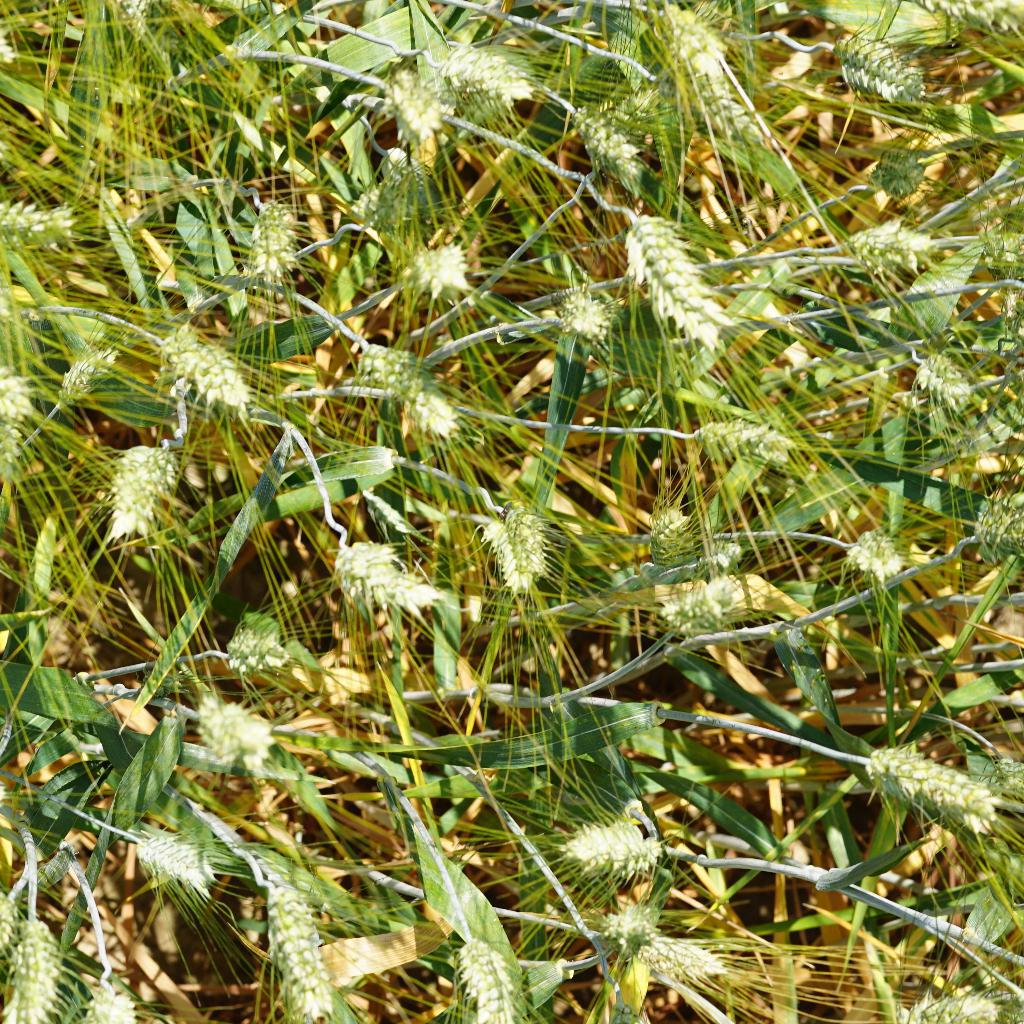0-0: (617, 202, 735, 352), (863, 728, 1002, 854), (661, 0, 769, 145), (256, 867, 343, 1019), (82, 425, 187, 541), (823, 24, 950, 118), (557, 94, 657, 193), (326, 530, 429, 623), (684, 402, 810, 478), (419, 26, 538, 105), (154, 324, 254, 413), (549, 803, 666, 878), (449, 927, 538, 1024), (0, 897, 64, 1024), (475, 478, 553, 582), (354, 135, 436, 228), (627, 919, 731, 991), (468, 509, 544, 604), (234, 190, 305, 290), (649, 572, 751, 641), (372, 56, 453, 142), (127, 822, 220, 896), (47, 329, 127, 414), (890, 970, 1011, 1024), (385, 235, 482, 301), (856, 138, 950, 206), (829, 522, 922, 590), (570, 885, 654, 959), (903, 340, 982, 418), (635, 494, 712, 572), (844, 212, 948, 269), (400, 377, 486, 445), (195, 698, 280, 765), (0, 187, 81, 253), (59, 964, 146, 1024), (956, 478, 1024, 553), (212, 617, 288, 683), (546, 283, 619, 346), (355, 337, 429, 393), (0, 347, 44, 425), (971, 217, 1024, 280), (0, 417, 33, 503)
